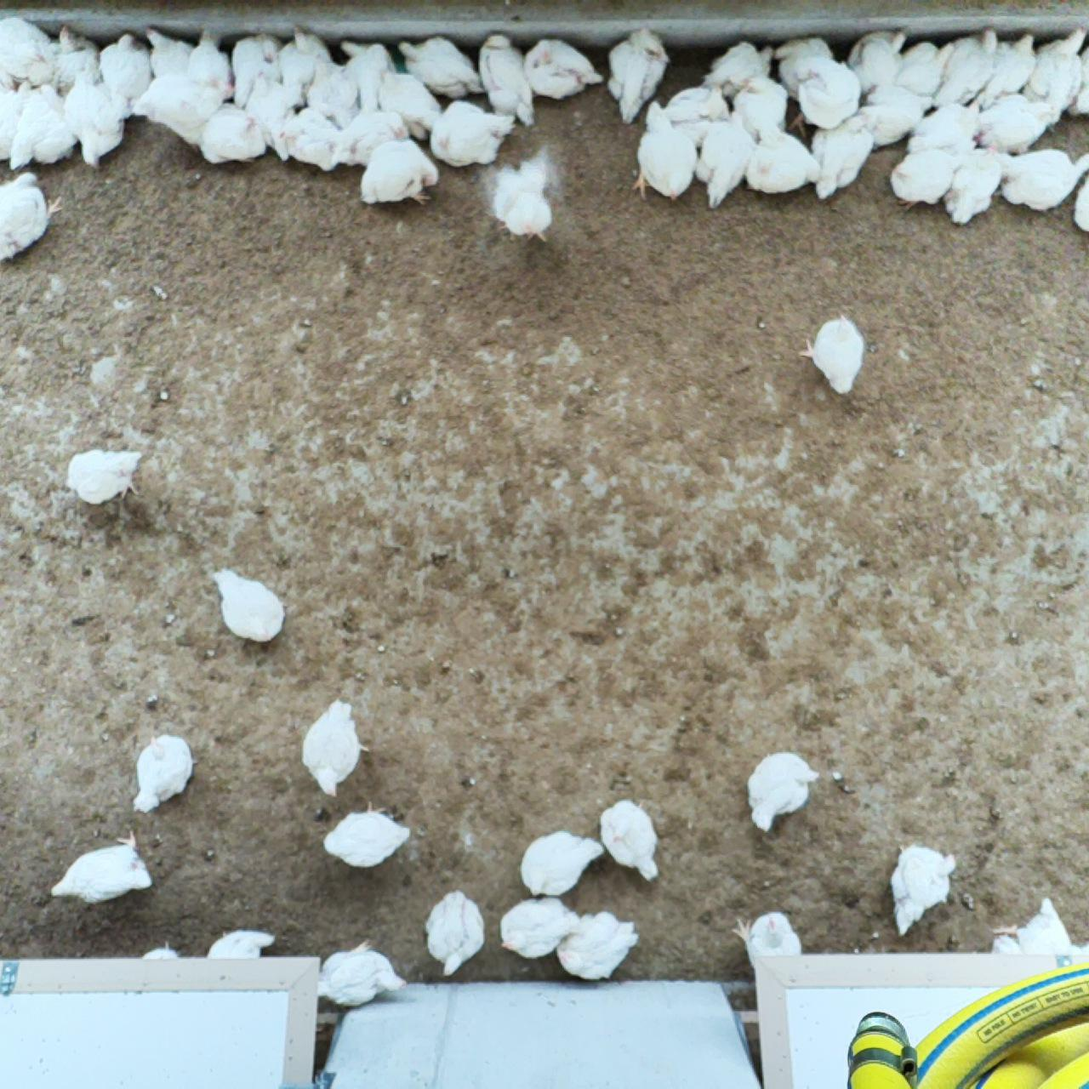chicken: (131, 72, 237, 153), (49, 827, 154, 907), (298, 698, 372, 800), (630, 98, 700, 205), (887, 840, 959, 940), (744, 748, 823, 837), (315, 937, 409, 1009), (322, 799, 414, 871), (605, 26, 671, 126), (1023, 23, 1089, 123), (7, 82, 79, 172), (887, 140, 977, 212), (556, 908, 641, 984), (0, 170, 65, 268), (788, 55, 863, 139), (489, 153, 556, 247), (426, 100, 517, 169), (694, 109, 756, 209), (798, 309, 866, 400), (518, 828, 605, 899), (358, 137, 441, 211), (807, 113, 875, 203), (595, 796, 663, 885), (128, 731, 199, 816), (422, 887, 488, 978), (998, 145, 1089, 211), (211, 566, 285, 647), (65, 72, 126, 170), (477, 34, 540, 126), (395, 34, 485, 98), (744, 125, 823, 197), (498, 896, 584, 962), (934, 24, 1000, 108), (522, 37, 606, 102), (941, 141, 1002, 229), (977, 92, 1058, 157), (989, 893, 1075, 954), (859, 82, 934, 151), (99, 30, 156, 120), (64, 447, 146, 509), (244, 70, 298, 163), (976, 31, 1039, 109), (197, 100, 269, 168), (376, 68, 442, 142), (330, 108, 407, 170), (278, 25, 336, 105), (908, 98, 986, 157), (659, 84, 731, 147), (232, 30, 287, 112), (701, 38, 777, 97), (304, 52, 363, 126), (768, 36, 838, 98), (339, 39, 396, 111), (736, 910, 804, 970), (733, 73, 790, 144), (279, 106, 341, 171), (850, 28, 909, 95), (47, 21, 100, 92), (0, 17, 53, 78), (186, 29, 235, 93), (896, 40, 956, 92), (0, 76, 34, 163), (201, 925, 278, 960), (139, 26, 193, 75), (1070, 169, 1089, 235), (139, 937, 183, 963)
